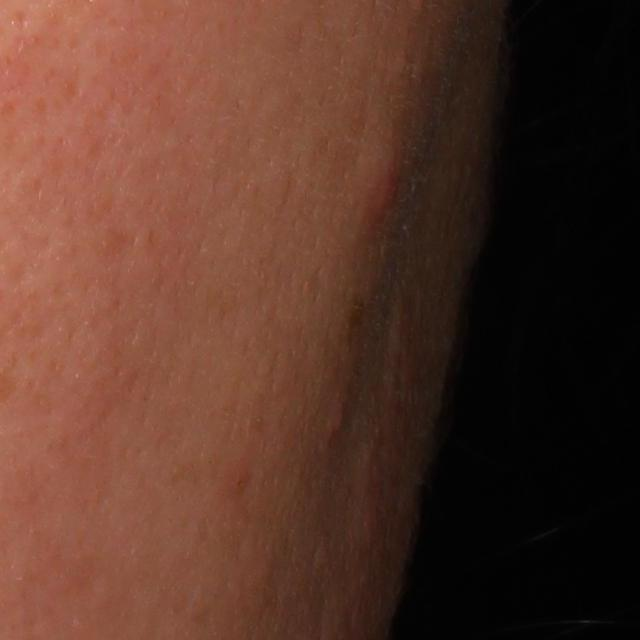papule: (360, 152, 397, 231), (331, 404, 351, 437)
